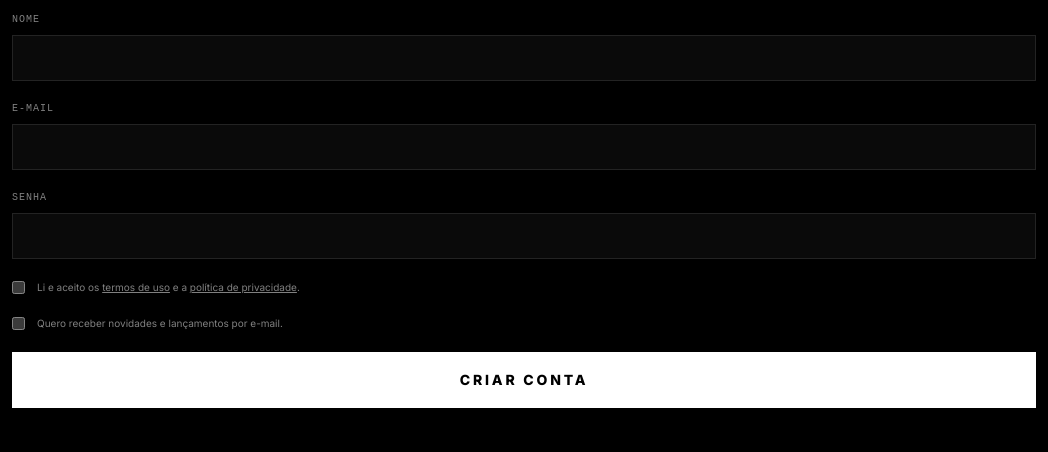
SignUpForm › exige aceitar os termos
Type "Ana Souza" into the field labelled "Nome" at (524, 58), box x1=12 y1=35 x2=1036 y2=81
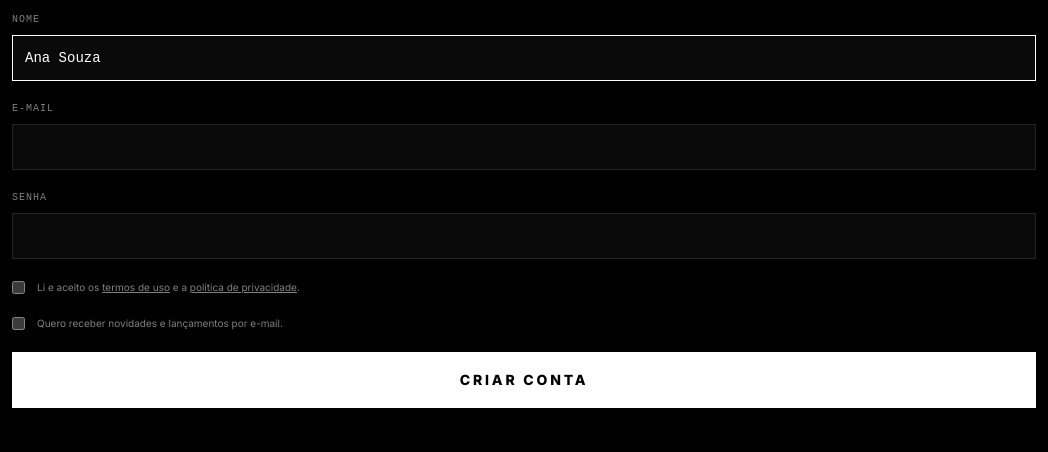
Type "ana@b.com" into the field labelled "E-mail" at (524, 147), box x1=12 y1=124 x2=1036 y2=170
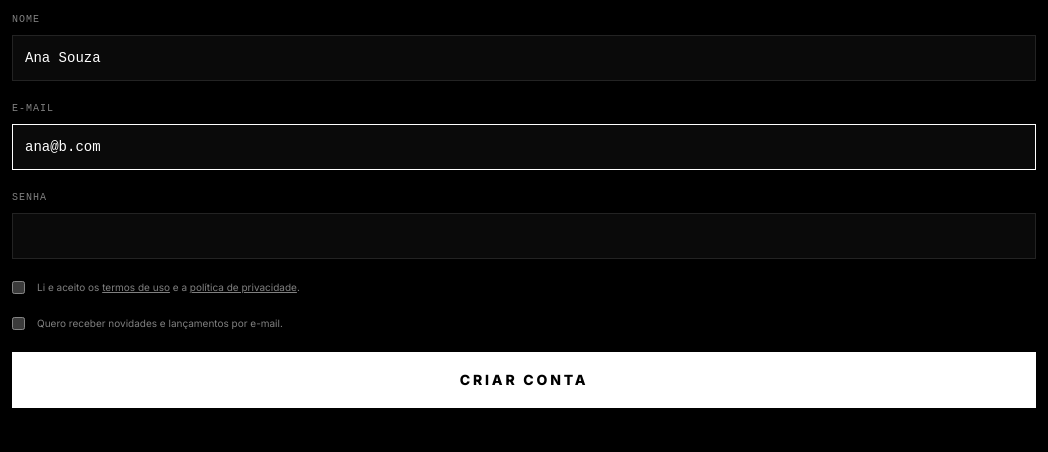
Type "estrela42" into the password field labelled "Senha" at (524, 236), box x1=12 y1=213 x2=1036 y2=259
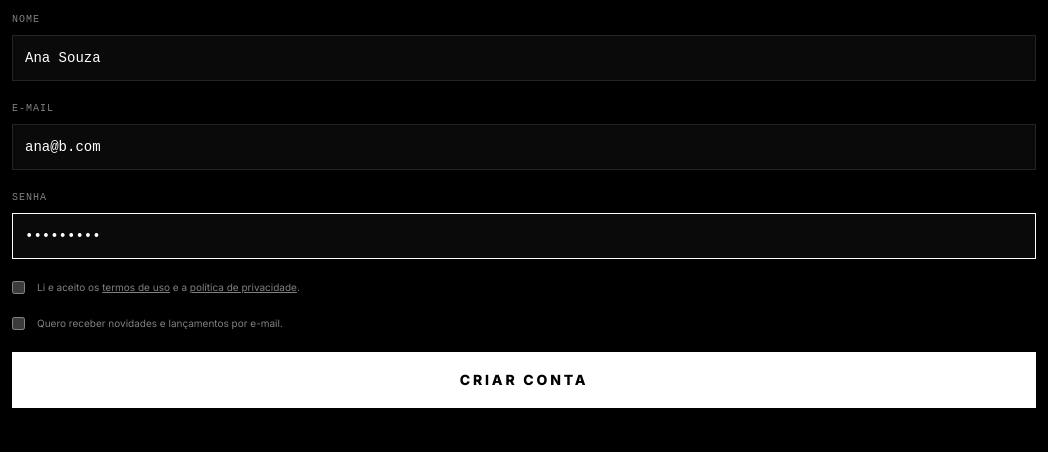
Click the button "Criar conta" at (524, 380), box x1=12 y1=352 x2=1036 y2=408
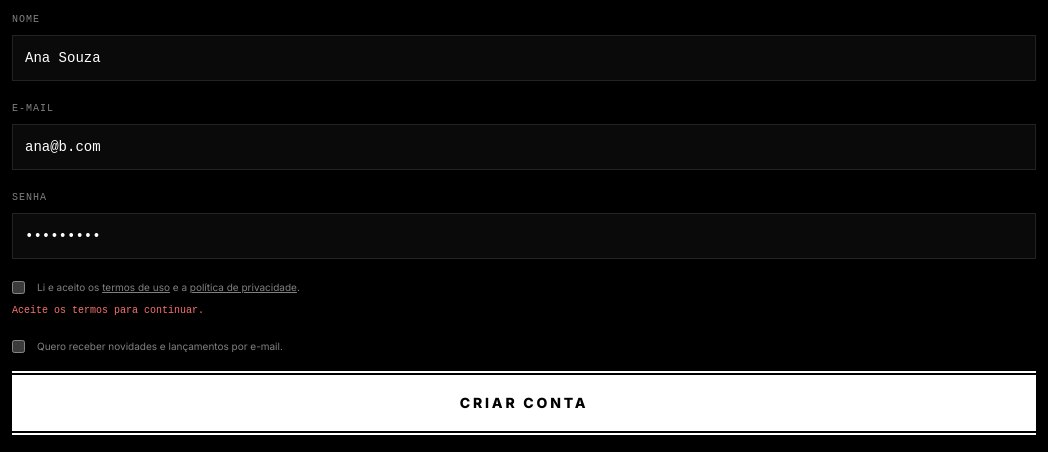
Expected: the text "Aceite os termos para continuar." is shown, x1=12 y1=305 x2=204 y2=316
